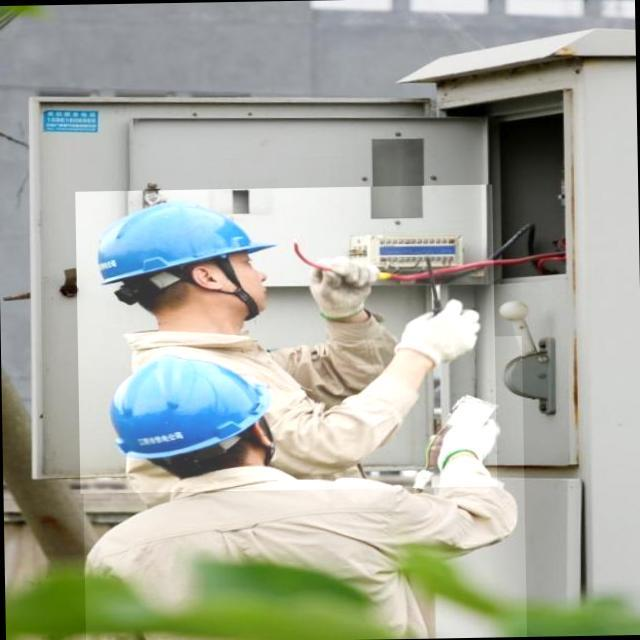Gloves: (389, 291, 492, 375), (304, 249, 393, 327), (431, 393, 511, 479)
Helmet: (101, 347, 284, 466), (88, 190, 290, 291)
Person: (63, 334, 528, 640), (74, 168, 509, 488)
